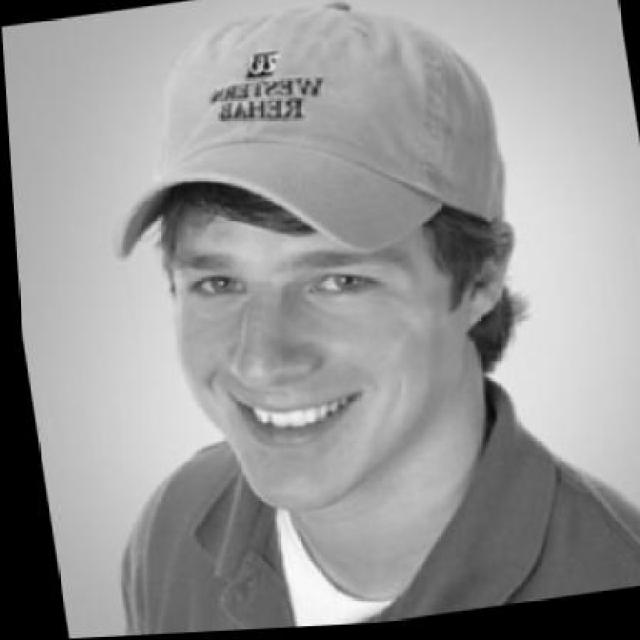hat: (75, 0, 519, 291)
